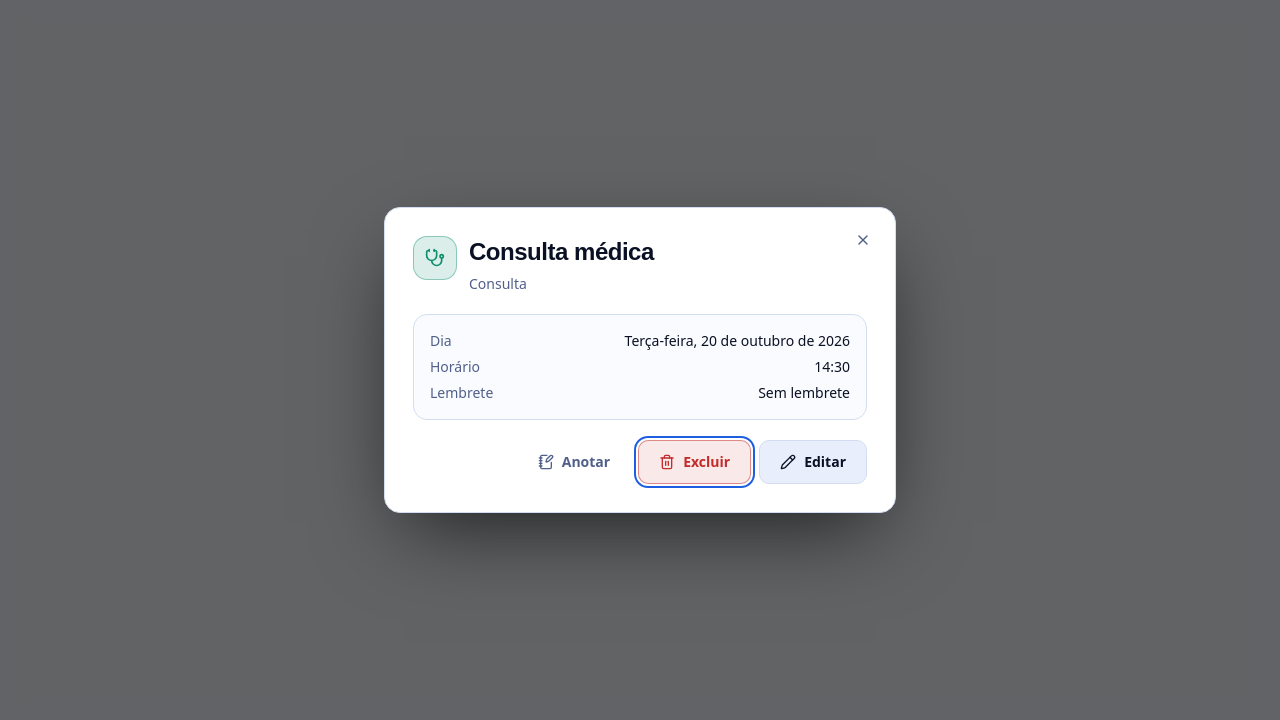
Test: atalhos "Anotar" (RF44) › no evento › durante a confirmação de exclusão o atalho não aparece
Click the button "Excluir": (695, 462) left=638, top=440, right=751, bottom=484
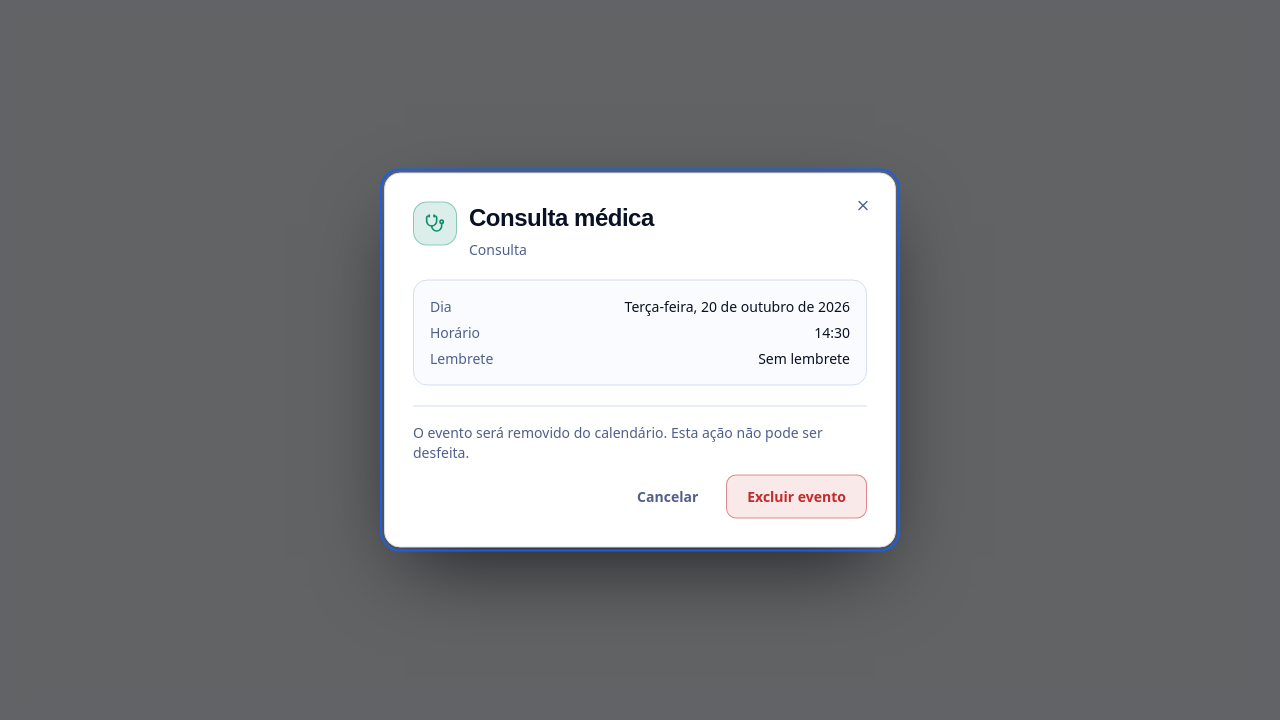
Expected: the link "Anotar" is gone
